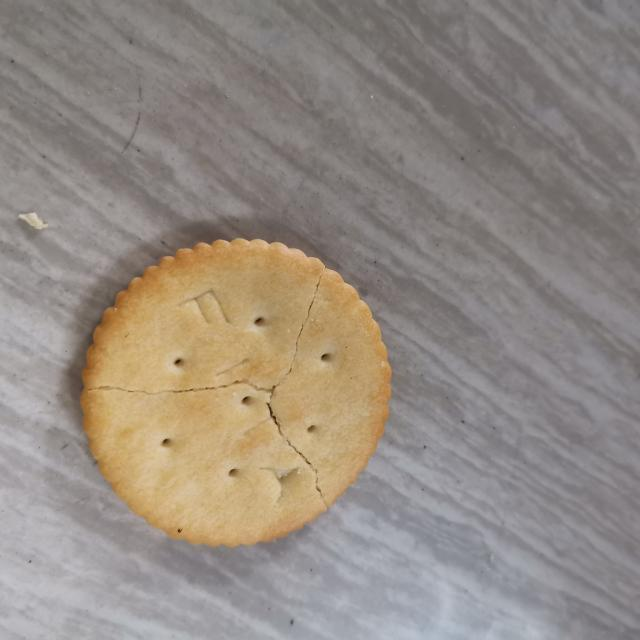Fracture: (79, 256, 337, 520)
